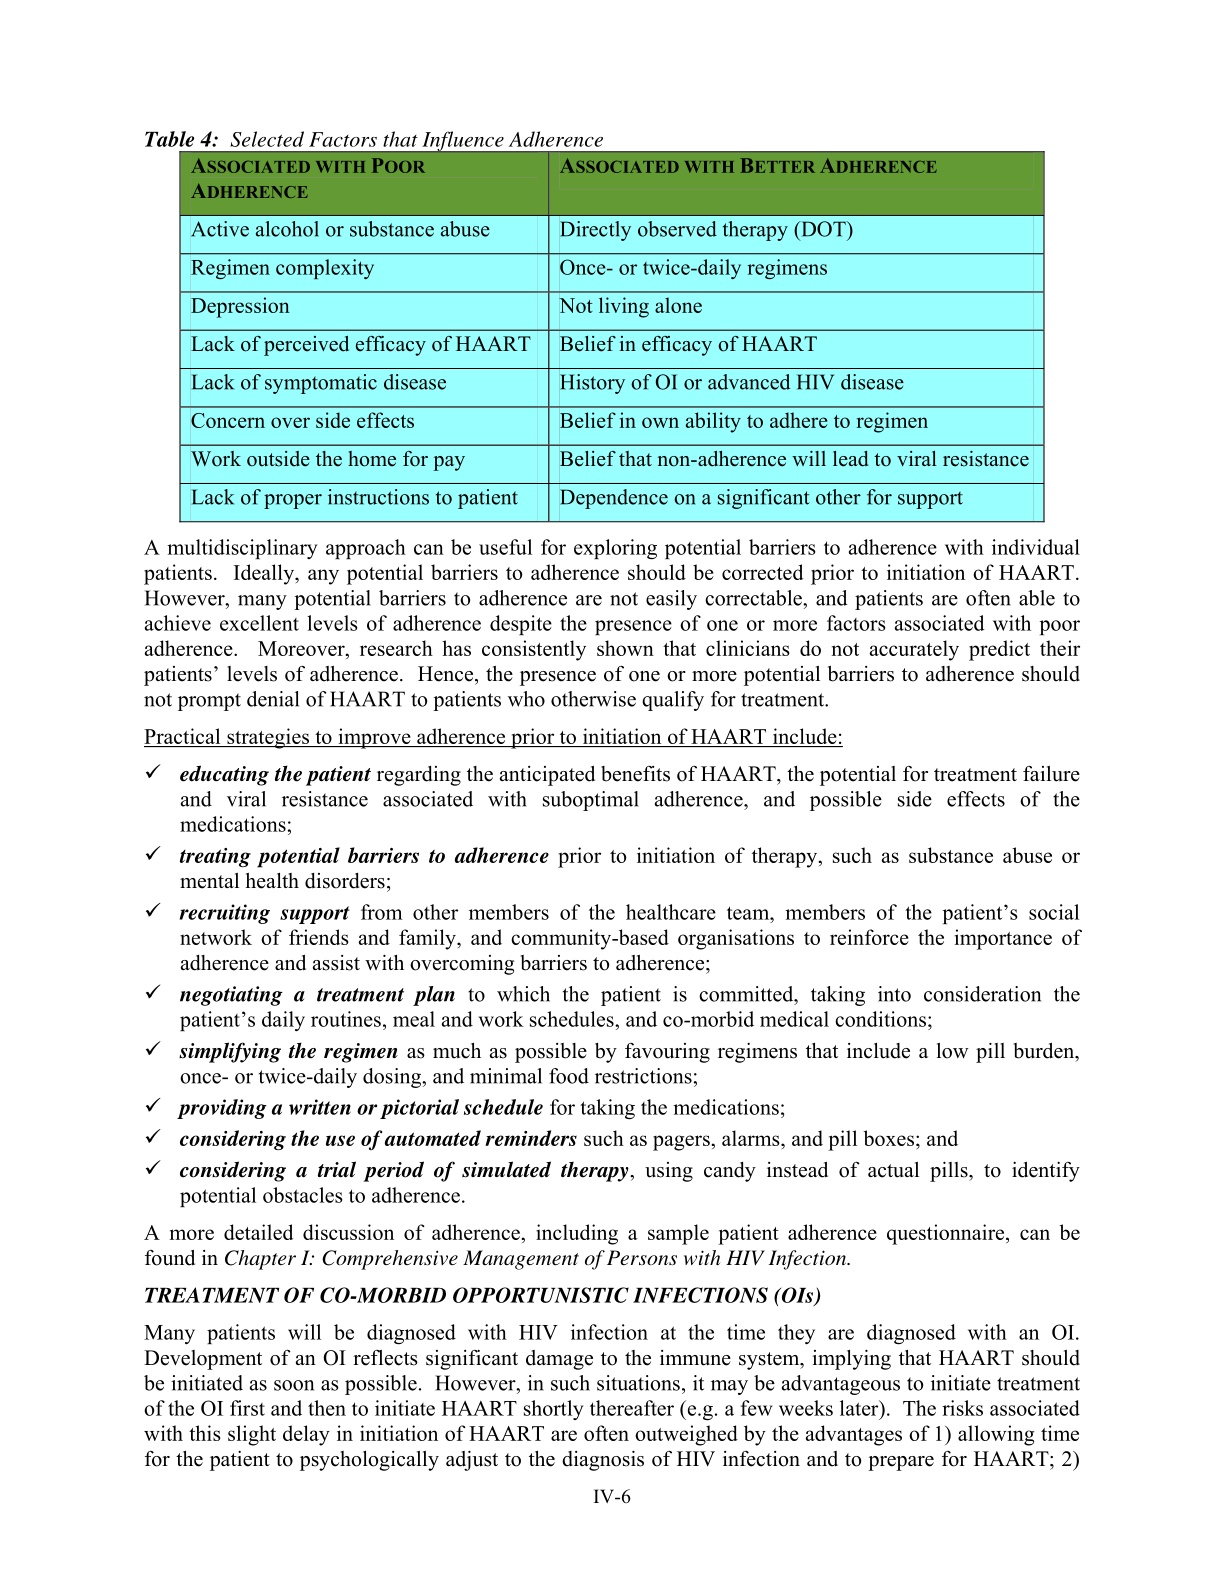full_lined: (179, 150, 1045, 523)
